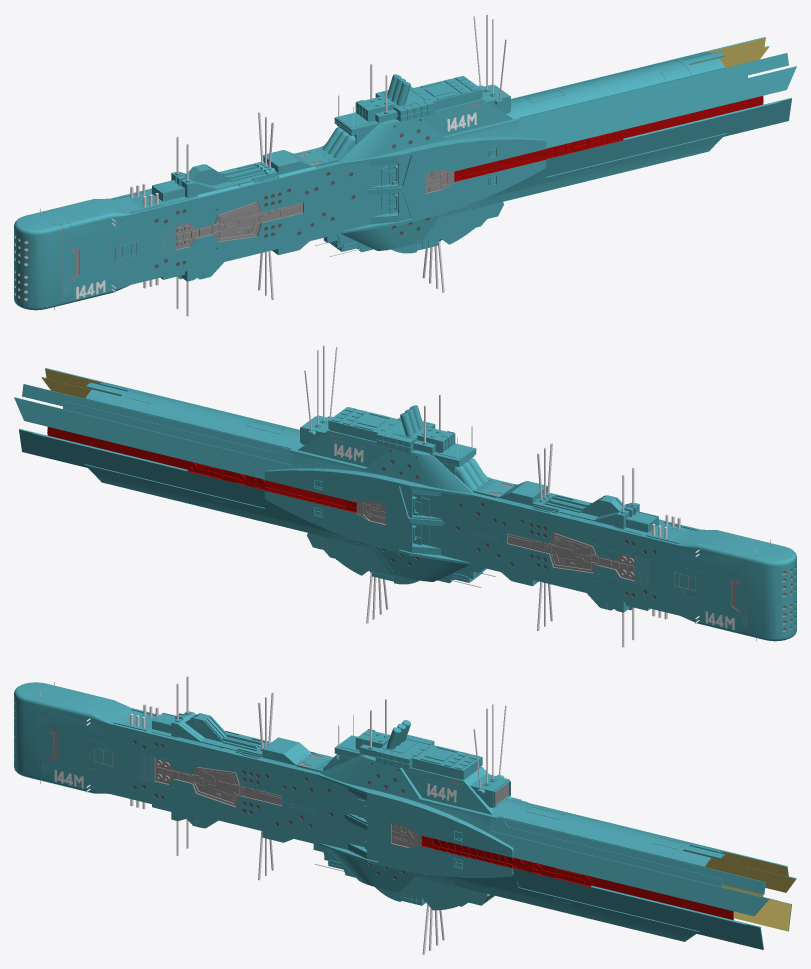
The model's file is hyperion.glb.
3 renders of one model, top to bottom at view 1: azimuth 30°, elevation 25°; view 2: azimuth 150°, elevation 25°; view 3: azimuth 330°, elevation 25°, orthographic.
Visible parts, largest first — view 1: Geom3D_ (×9), Geom3D (×3); view 2: Geom3D_ (×9), Geom3D (×3); view 3: Geom3D_ (×7), Geom3D (×3).
Part boxes in pixels (x1,y1,x2,y2): Geom3D_ (×9): (14, 37, 796, 310); Geom3D (×3): (14, 37, 768, 303); Geom3D_ (×9): (14, 368, 796, 641); Geom3D (×3): (42, 368, 796, 634); Geom3D_ (×7): (14, 682, 796, 949); Geom3D (×3): (14, 700, 795, 931).
Size of the model in its own units: 911 by 290 by 70.
